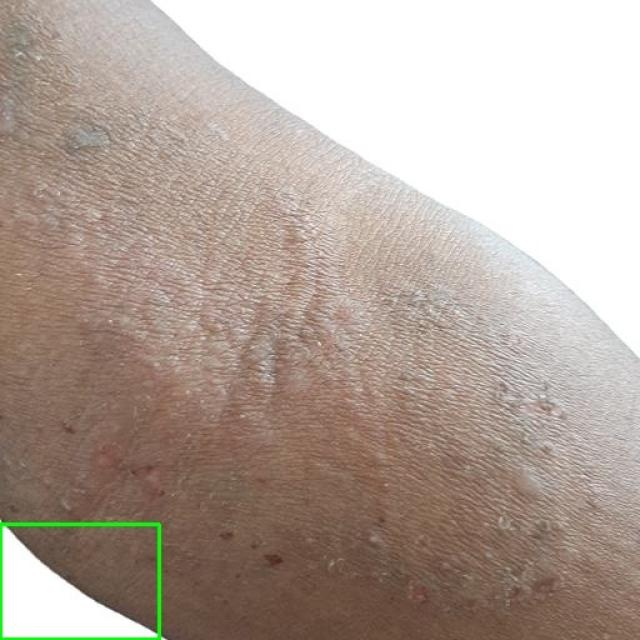Tinea Corporis: (0, 524, 159, 639)
